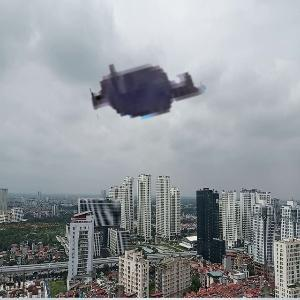drone: (57, 8, 225, 176)
